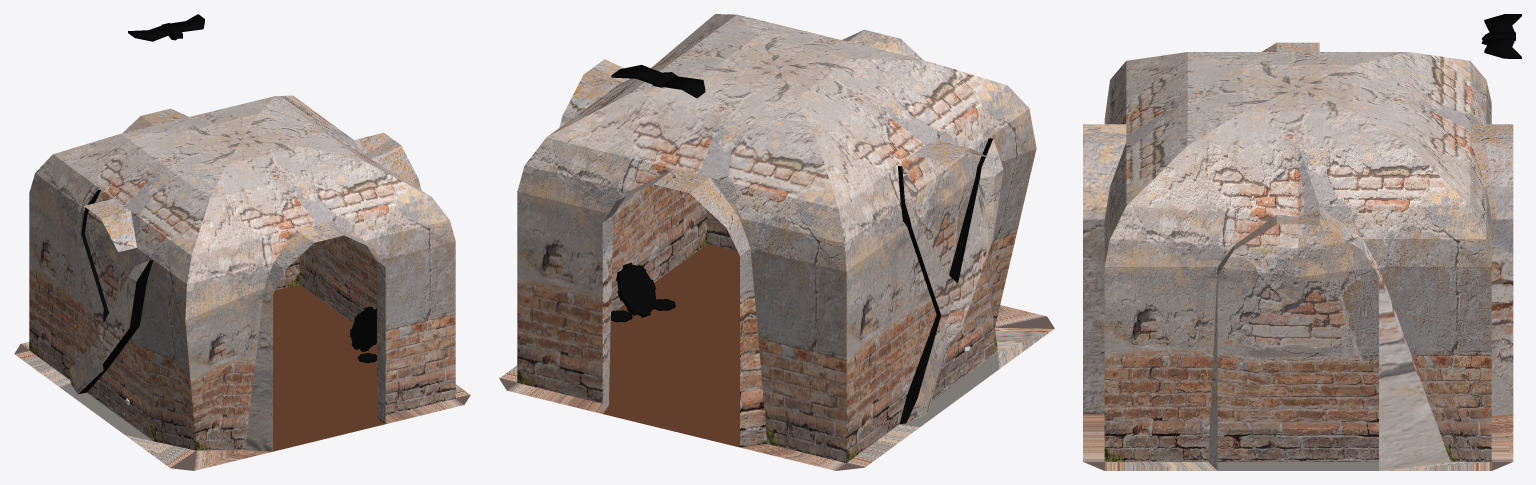
The model's file is MAZE-ELEMENTS-tunel-2.fbx.
The picture shows the model from 3 angles, left to right: view 1: azimuth 30°, elevation 25°; view 2: azimuth 150°, elevation 25°; view 3: azimuth 270°, elevation 25°; orthographic projection. The views are drawn at different scales.
Parts seen in each view (by area): view 1: tunel.001, gear1.001; view 2: tunel.001, gear1.001, bat-wing-r, bat-wing-l; view 3: tunel.001, bat-wing-l, bat-wing-r.
Part boxes in pixels (left/top/right/bottom): tunel.001: left=14, top=95, right=470, bottom=470; gear1.001: left=349, top=306, right=376, bottom=351; tunel.001: left=499, top=14, right=1054, bottom=470; gear1.001: left=616, top=262, right=657, bottom=317; bat-wing-r: left=662, top=76, right=705, bottom=98; bat-wing-l: left=611, top=65, right=661, bottom=84; tunel.001: left=1083, top=42, right=1513, bottom=470; bat-wing-l: left=1484, top=37, right=1521, bottom=58; bat-wing-r: left=1484, top=14, right=1521, bottom=32.
Size of the model in its own units: 400 by 367 by 408.
